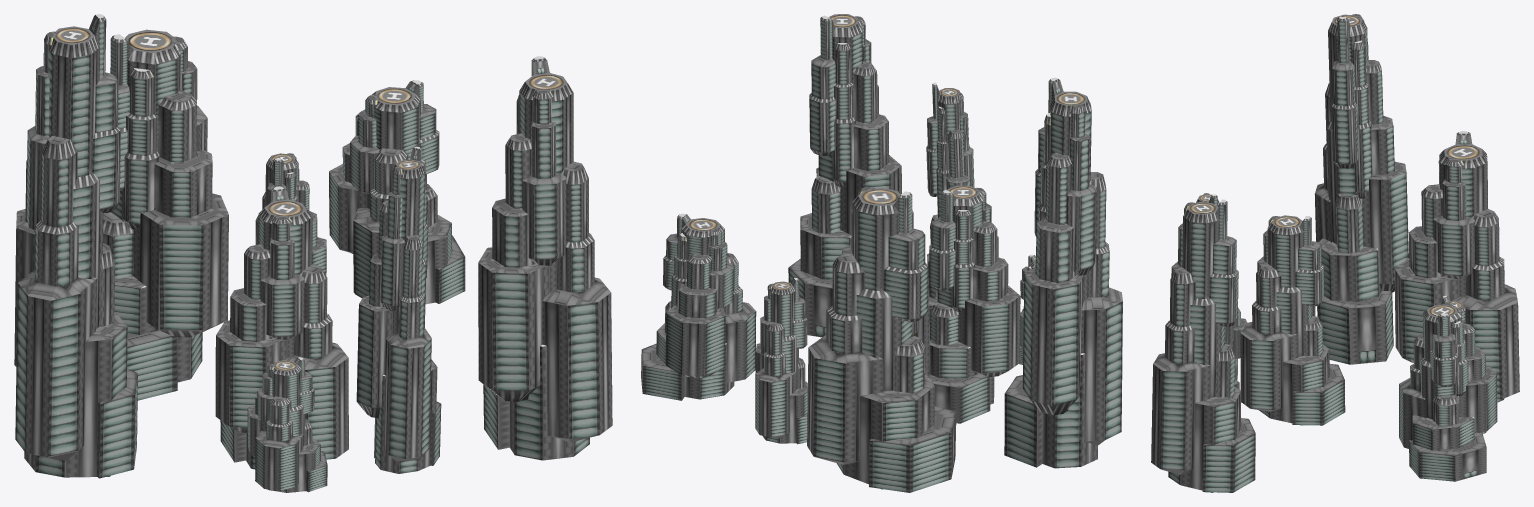
The model's file is High Rises.fbx.
3 views of the same model, side by side, from view 1: azimuth 30°, elevation 25°; view 2: azimuth 150°, elevation 25°; view 3: azimuth 270°, elevation 25° (orthographic). The views are drawn at different scales.
Parts seen in each view (by area): view 1: Cube.005, Cube.003, Cube.006, Cube.004, Cube.001, Cube.000, Cube.002, Cube.020; view 2: Cube.006, Cube.005, Cube.003, Cube.004, Cube.000, Cube.020, Cube.001; view 3: Cube.005, Cube.003, Cube.006, Cube.004, Cube.000, Cube.002.
Boxes of the visible parts, x1=… form: Cube.005: x1=14, y1=14, x2=137, y2=478; Cube.003: x1=478, y1=56, x2=612, y2=460; Cube.006: x1=103, y1=29, x2=228, y2=400; Cube.004: x1=215, y1=186, x2=348, y2=469; Cube.001: x1=356, y1=146, x2=441, y2=473; Cube.000: x1=329, y1=80, x2=465, y2=304; Cube.002: x1=247, y1=357, x2=327, y2=492; Cube.020: x1=262, y1=153, x2=326, y2=275; Cube.006: x1=807, y1=187, x2=956, y2=492; Cube.005: x1=1004, y1=77, x2=1122, y2=468; Cube.003: x1=788, y1=14, x2=901, y2=337; Cube.004: x1=929, y1=185, x2=1020, y2=423; Cube.000: x1=641, y1=213, x2=756, y2=400; Cube.020: x1=755, y1=278, x2=807, y2=444; Cube.001: x1=926, y1=82, x2=974, y2=324; Cube.005: x1=1314, y1=14, x2=1408, y2=364; Cube.003: x1=1151, y1=199, x2=1255, y2=492; Cube.006: x1=1394, y1=131, x2=1519, y2=402; Cube.004: x1=1240, y1=215, x2=1345, y2=425; Cube.000: x1=1399, y1=303, x2=1497, y2=481; Cube.002: x1=1233, y1=307, x2=1247, y2=380.
Bounding box in the file's own units: 6374 × 5440 × 5385.
